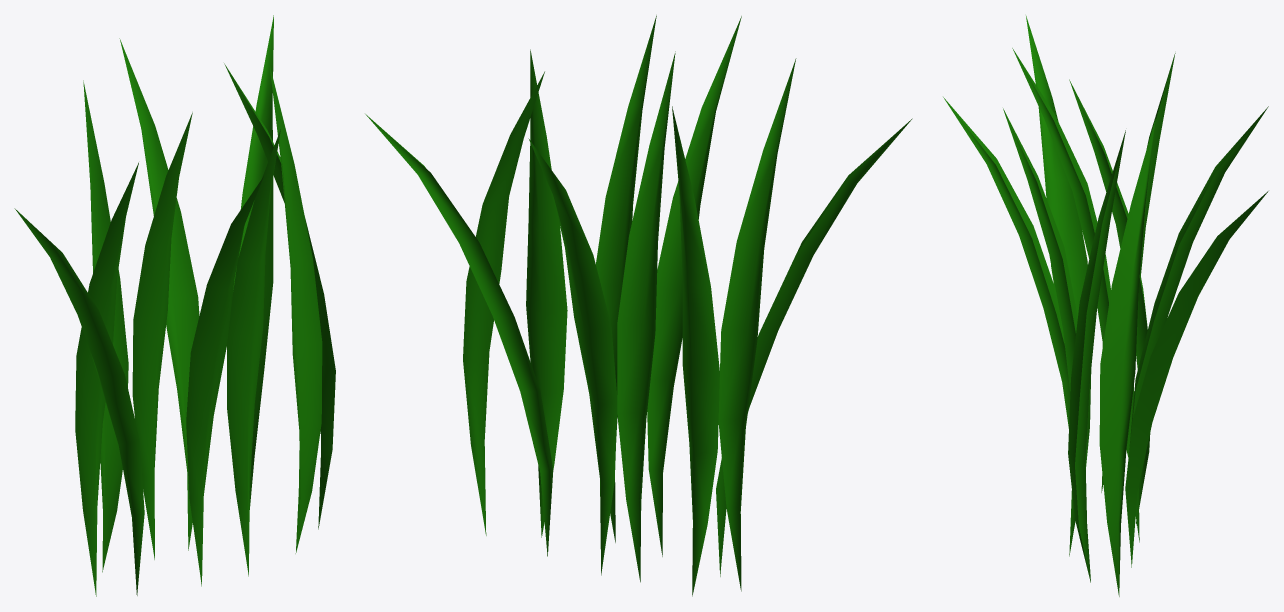
Rendered from GramaColorida.fbx.
3 views of the same model, side by side, from view 1: azimuth 30°, elevation 25°; view 2: azimuth 150°, elevation 25°; view 3: azimuth 270°, elevation 25° (orthographic). The views are drawn at different scales.
Parts seen in each view (by area): view 1: Plane.005; view 2: Plane.005; view 3: Plane.005.
Part boxes in pixels (x1=…): Plane.005: x1=14, y1=15, x2=335, y2=596; Plane.005: x1=365, y1=15, x2=912, y2=596; Plane.005: x1=943, y1=16, x2=1268, y2=596.
Size of the model in its own units: 102 by 121 by 78.56.
